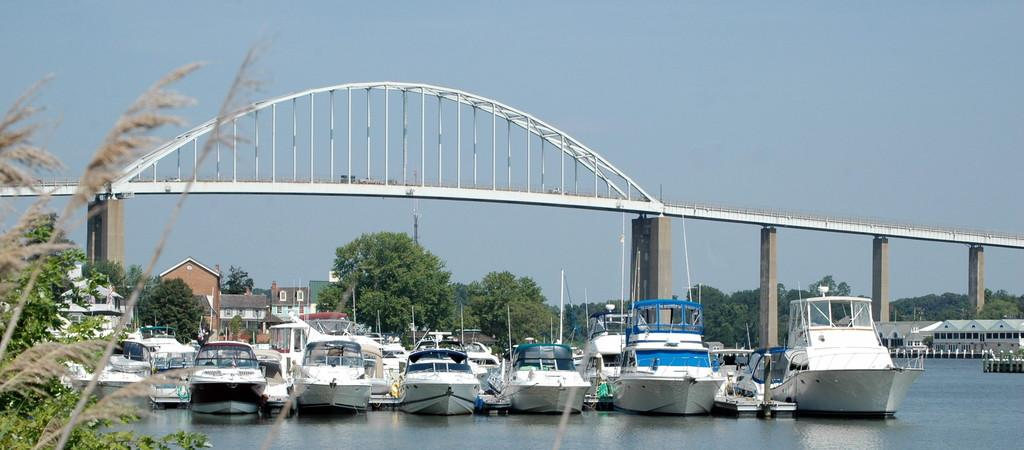PassengerShip: (768, 280, 934, 420), (615, 296, 723, 420)
